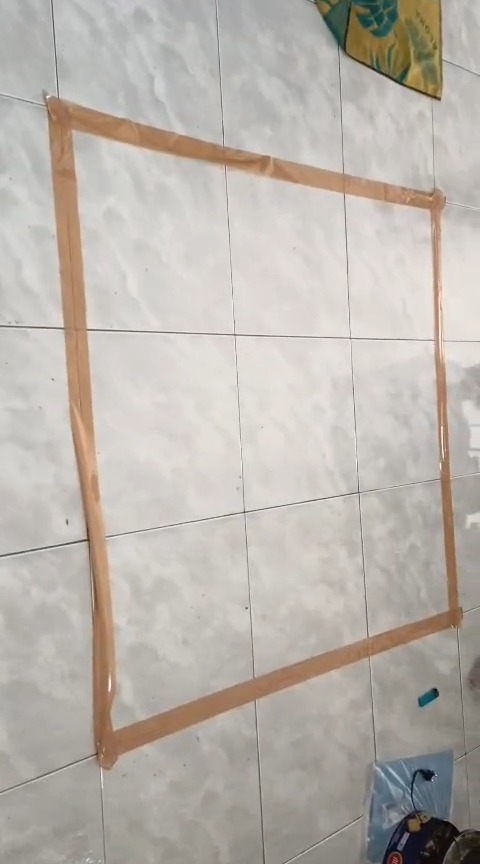floor marking: (45, 96, 462, 768)
